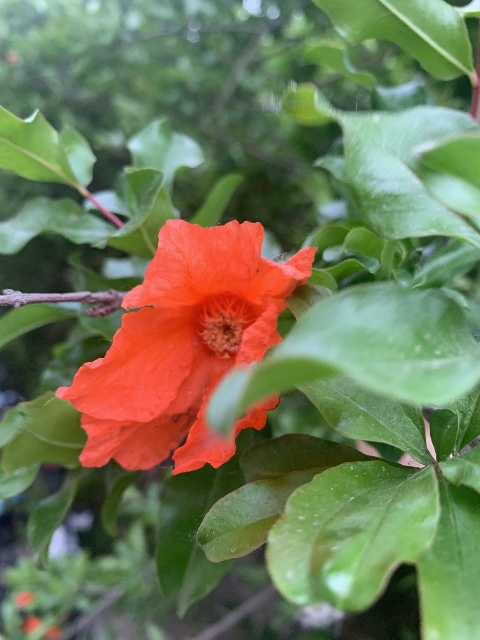flower: (58, 217, 316, 476)
